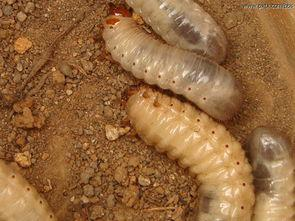grub: (122, 85, 254, 220)
